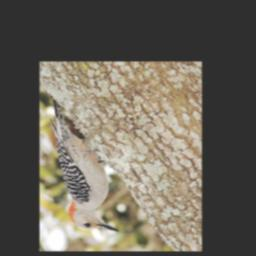Woodpecker: (43, 91, 121, 239)
